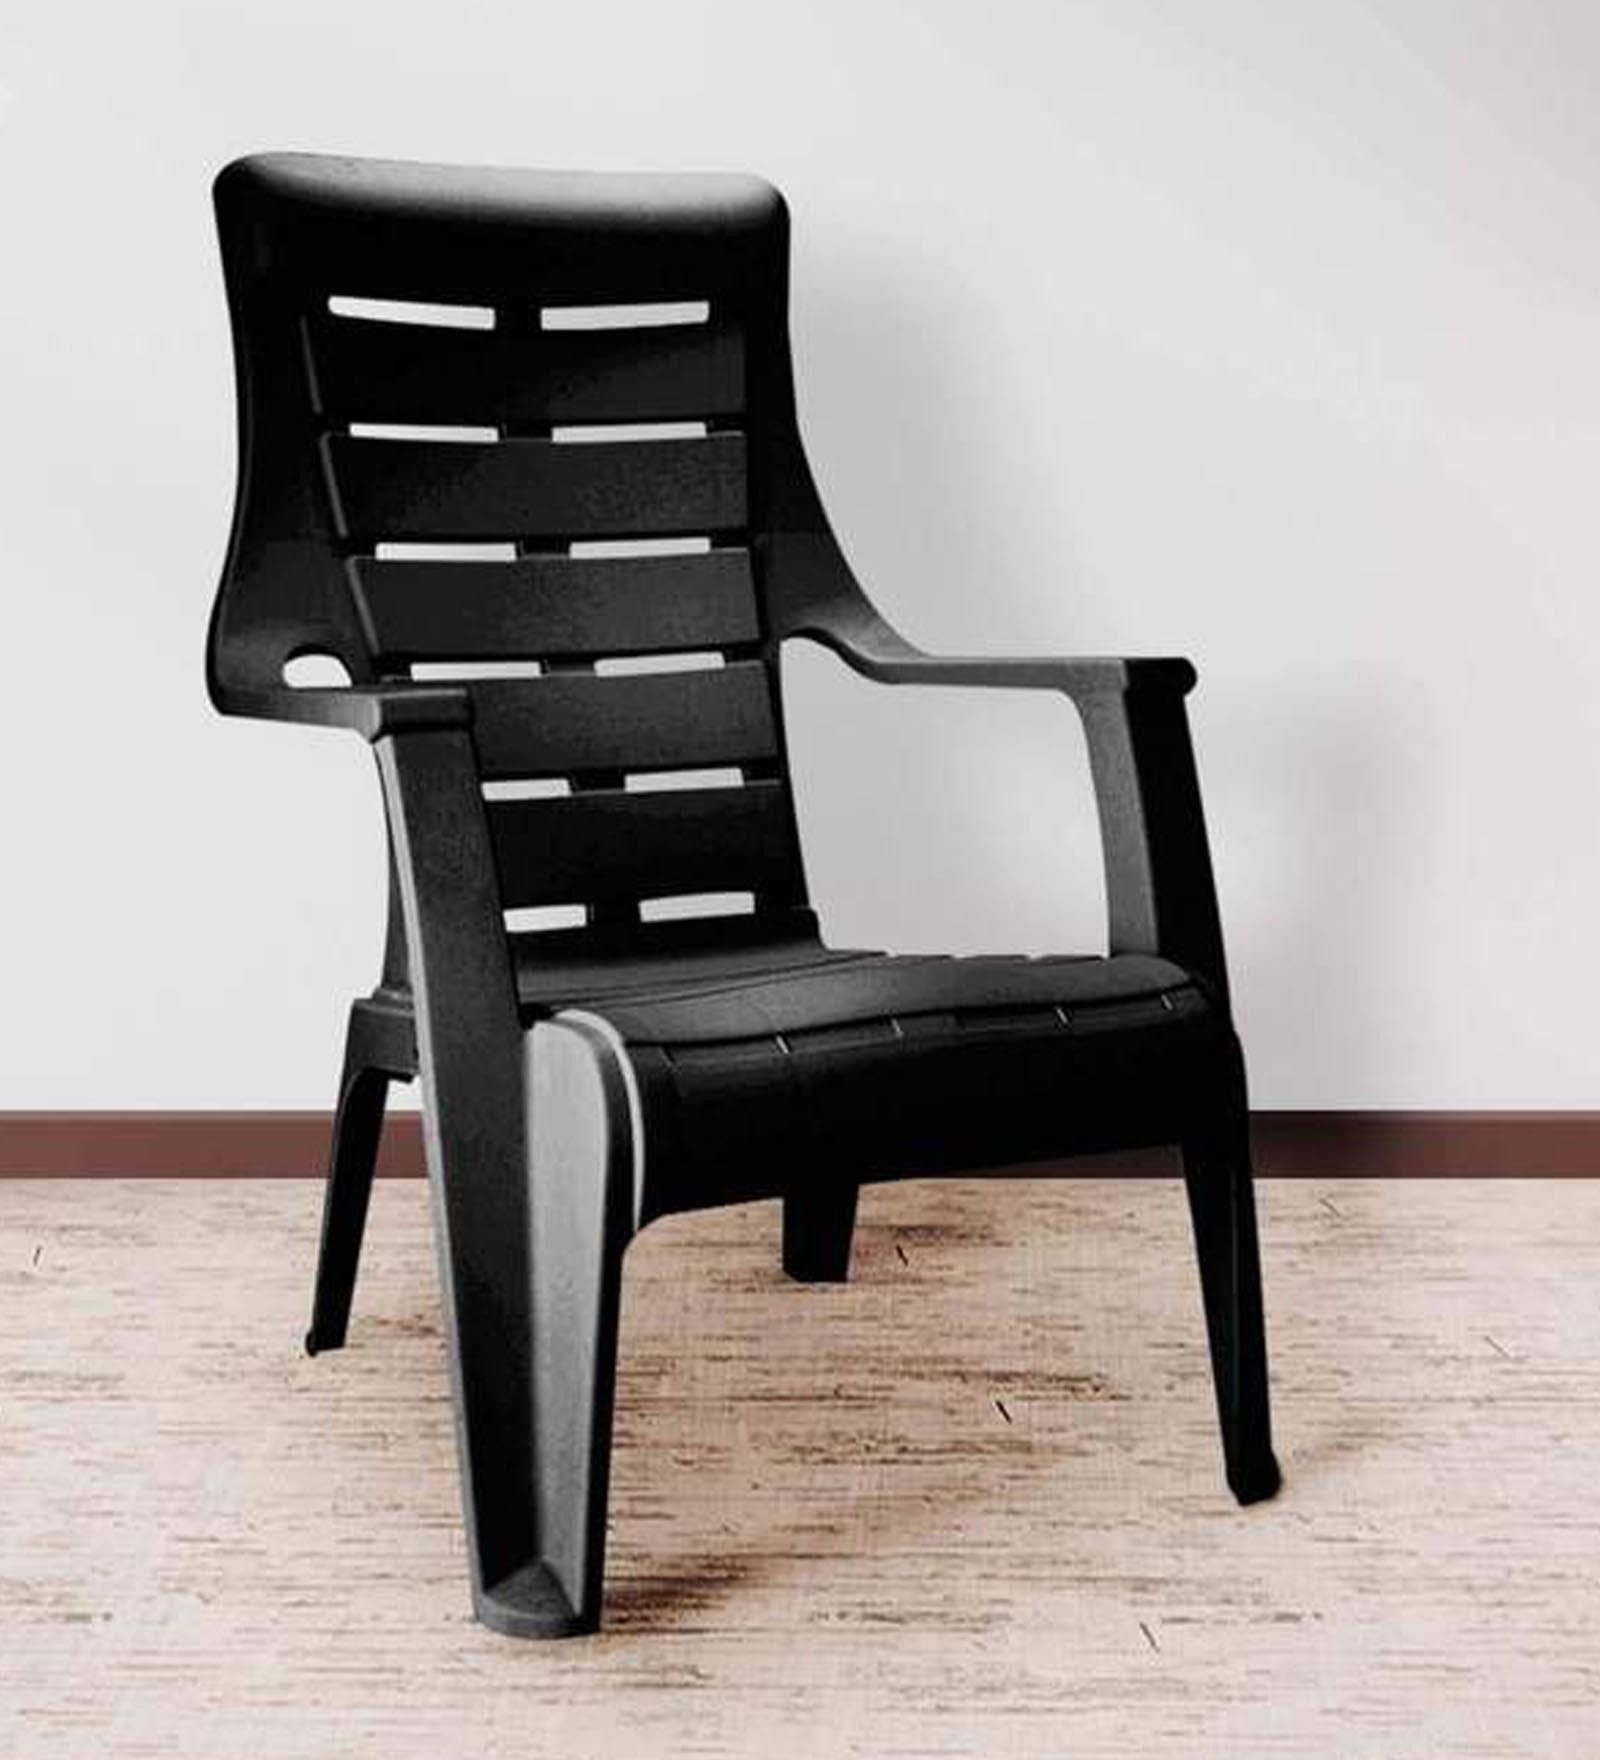Sunday Outdoor Arm Chair in Black Colour by Nilkamal: (135, 127, 1379, 1676)
